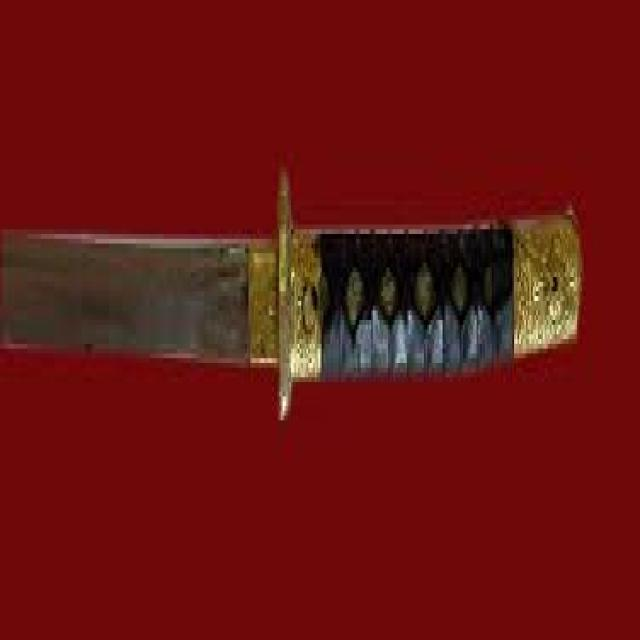long sword: (2, 167, 584, 431)
